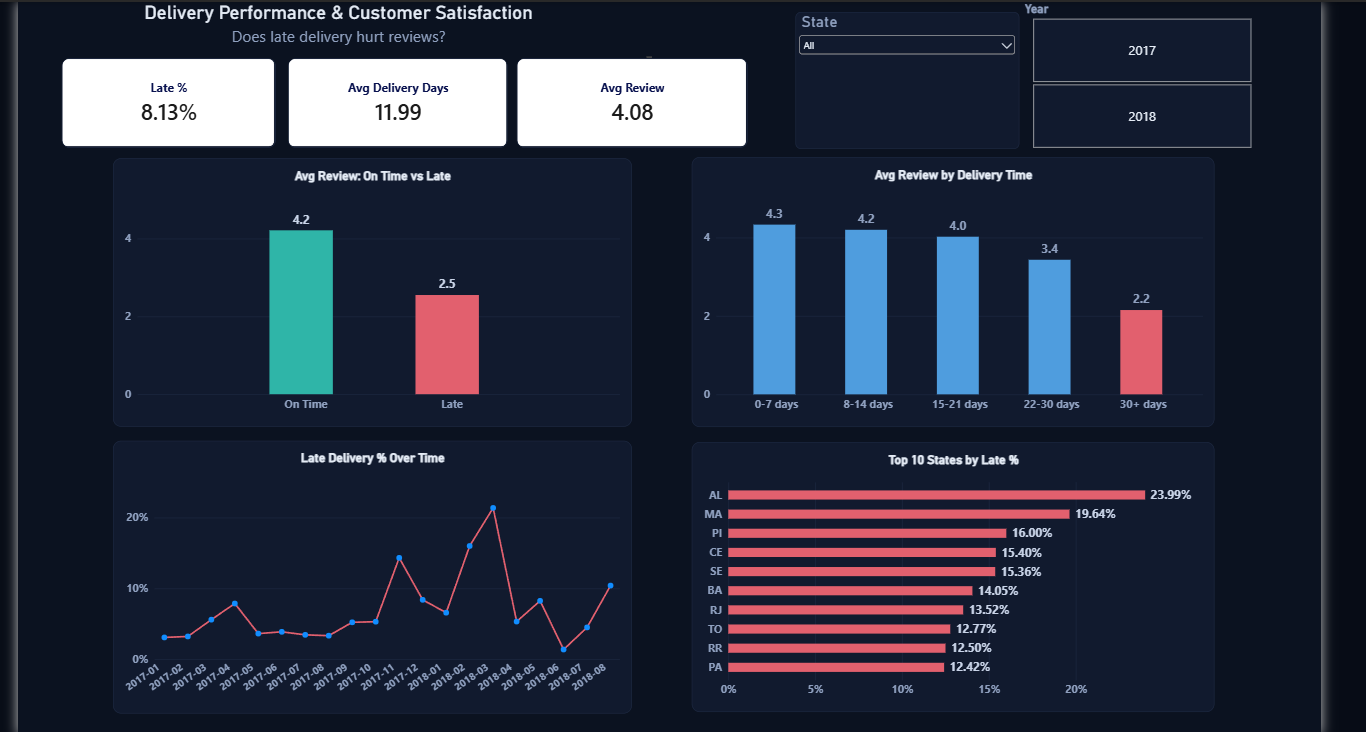

What the dashboard file says about the page in this screenshot:
{"tool":"powerbi","page":{"name":"Delivery and Satisfaction","canvas":[1920,1080],"ordinal":1},"visuals":[{"type":"textbox","title":"Delivery Performance & Customer Satisfaction","box":[10.3,0,922.1,82.3],"z":0},{"type":"cardVisual","fields":{"Data":["fact_items.Late %"]},"box":[63.8,82.3,314.9,131.7],"z":3000},{"type":"cardVisual","fields":{"Data":["fact_items.Avg Delivery Days"]},"box":[397.3,82.3,323.2,131.7],"z":4000},{"type":"cardVisual","fields":{"Data":["fact_items.Review Avg"]},"box":[734.8,82.3,339.6,131.7],"z":5000},{"type":"clusteredColumnChart","title":"Avg Review: On Time vs Late","fields":{"Category":["fact_items.Delivery Status"],"Y":["fact_items.Review Avg"]},"box":[140,230.5,763.6,395.2],"z":6000},{"type":"clusteredColumnChart","title":"Avg Review by Delivery Time","fields":{"Category":["fact_items.Delivery Bucket"],"Y":["fact_items.Review Avg"]},"box":[992.1,228.5,769.8,397.3],"z":7000},{"type":"clusteredBarChart","title":"Top 10 States by Late %","fields":{"Category":["dim_customers.customer_state"],"Y":["fact_items.Late %"]},"box":[992.1,648.4,769.8,397.3],"z":8000},{"type":"lineChart","title":"Late Delivery % Over Time","fields":{"Category":["Dim_Date.Year-Month"],"Y":["fact_items.Late %"]},"box":[140,646.3,763.6,401.4],"z":9000},{"type":"slicer","fields":{"Values":["dim_customers.customer_state"]},"box":[1144.4,14.4,329.3,201.7],"z":9001},{"type":"slicer","fields":{"Values":["Dim_Date.Year"]},"box":[1473.8,0,360.2,216.1],"z":9002}]}

Visuals, with their boxes on the page's 1920x1080 design canvas (x1, y1, x2, y2). These are canvas units, not pixel positions in the 1366x732 screenshot, which may show the page scaled, cropped or inside an application window:
"Delivery Performance & Customer Satisfaction" textbox: region(10, 0, 932, 82)
cardVisual - fact_items.Late %: region(64, 82, 379, 214)
cardVisual - fact_items.Avg Delivery Days: region(397, 82, 720, 214)
cardVisual - fact_items.Review Avg: region(735, 82, 1074, 214)
"Avg Review: On Time vs Late" clusteredColumnChart: region(140, 230, 904, 626)
"Avg Review by Delivery Time" clusteredColumnChart: region(992, 228, 1762, 626)
"Top 10 States by Late %" clusteredBarChart: region(992, 648, 1762, 1046)
"Late Delivery % Over Time" lineChart: region(140, 646, 904, 1048)
slicer - dim_customers.customer_state: region(1144, 14, 1474, 216)
slicer - Dim_Date.Year: region(1474, 0, 1834, 216)
